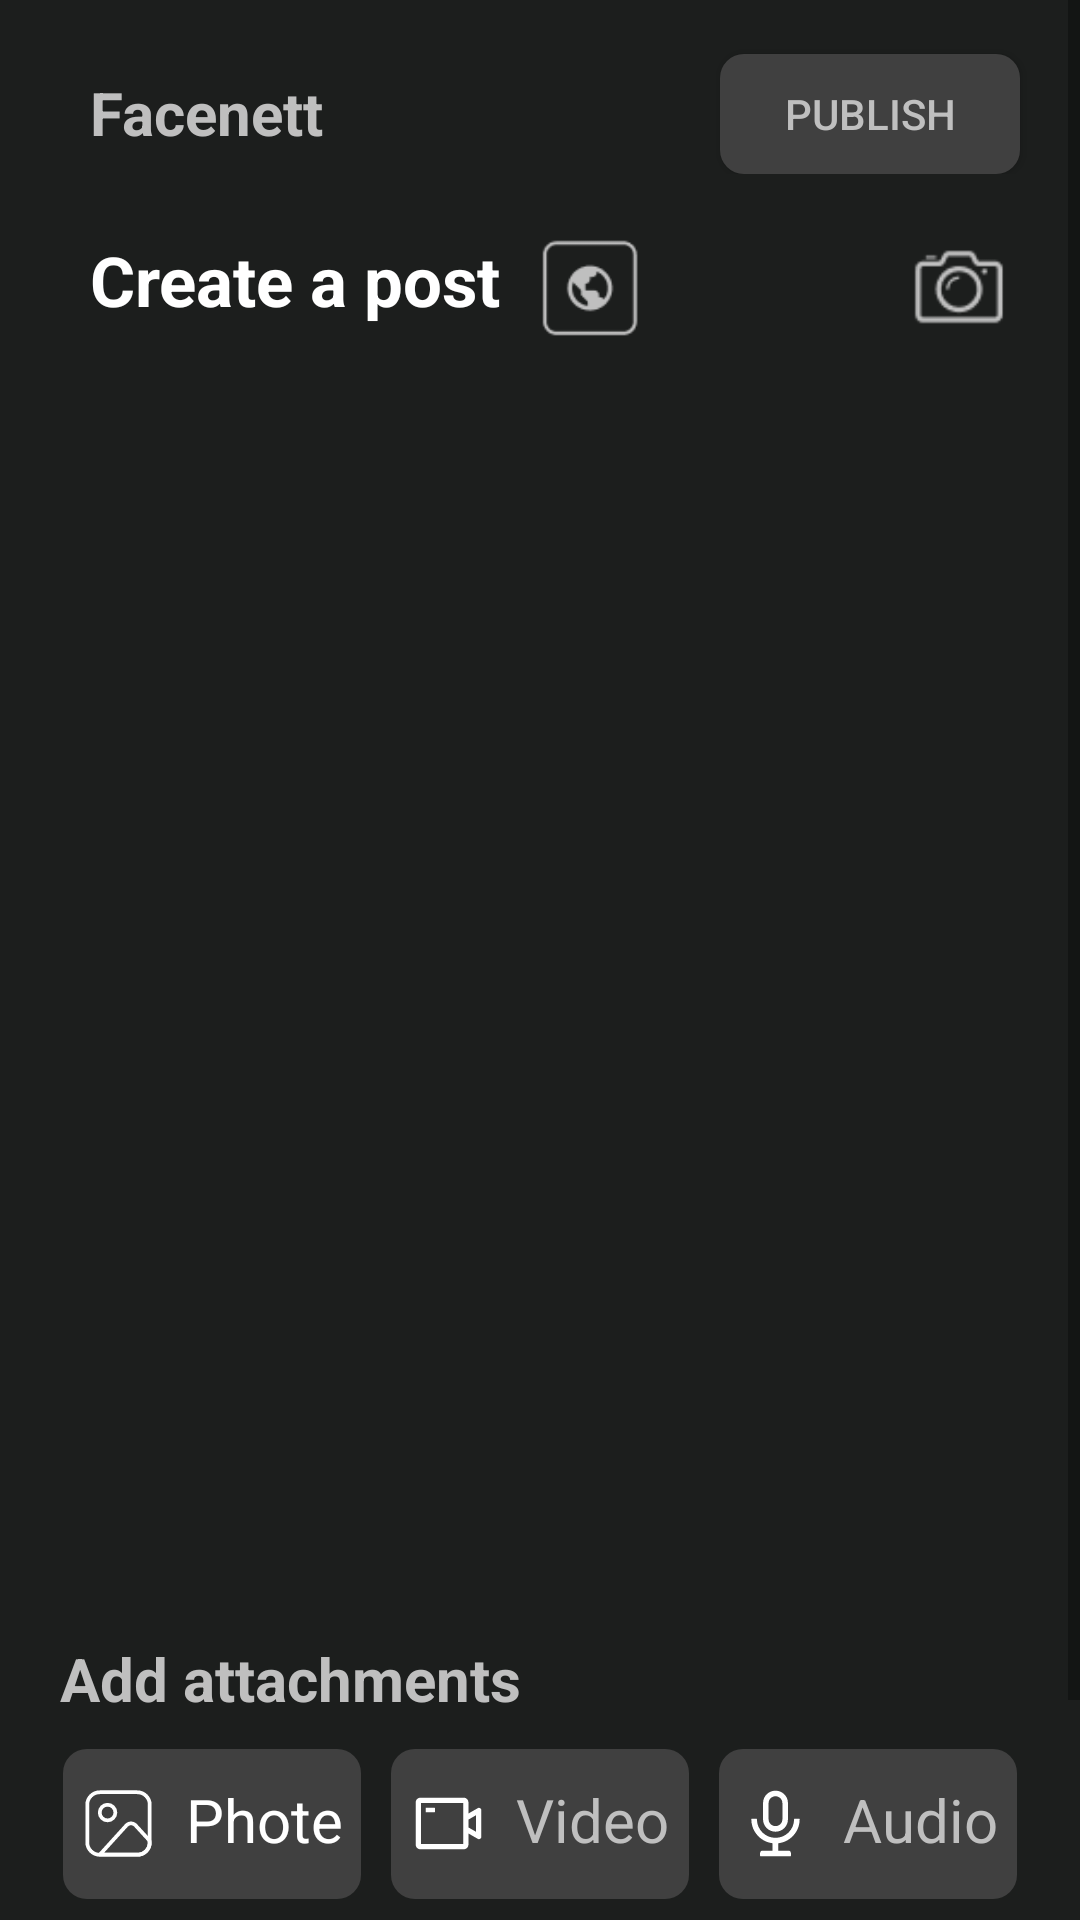

Named icons in this screenshot (1080 x 1920) and their bounding boxes, [x1, y1, x2, y2]:
camera: [915, 250, 1003, 324]
photo: [85, 1790, 152, 1857]
